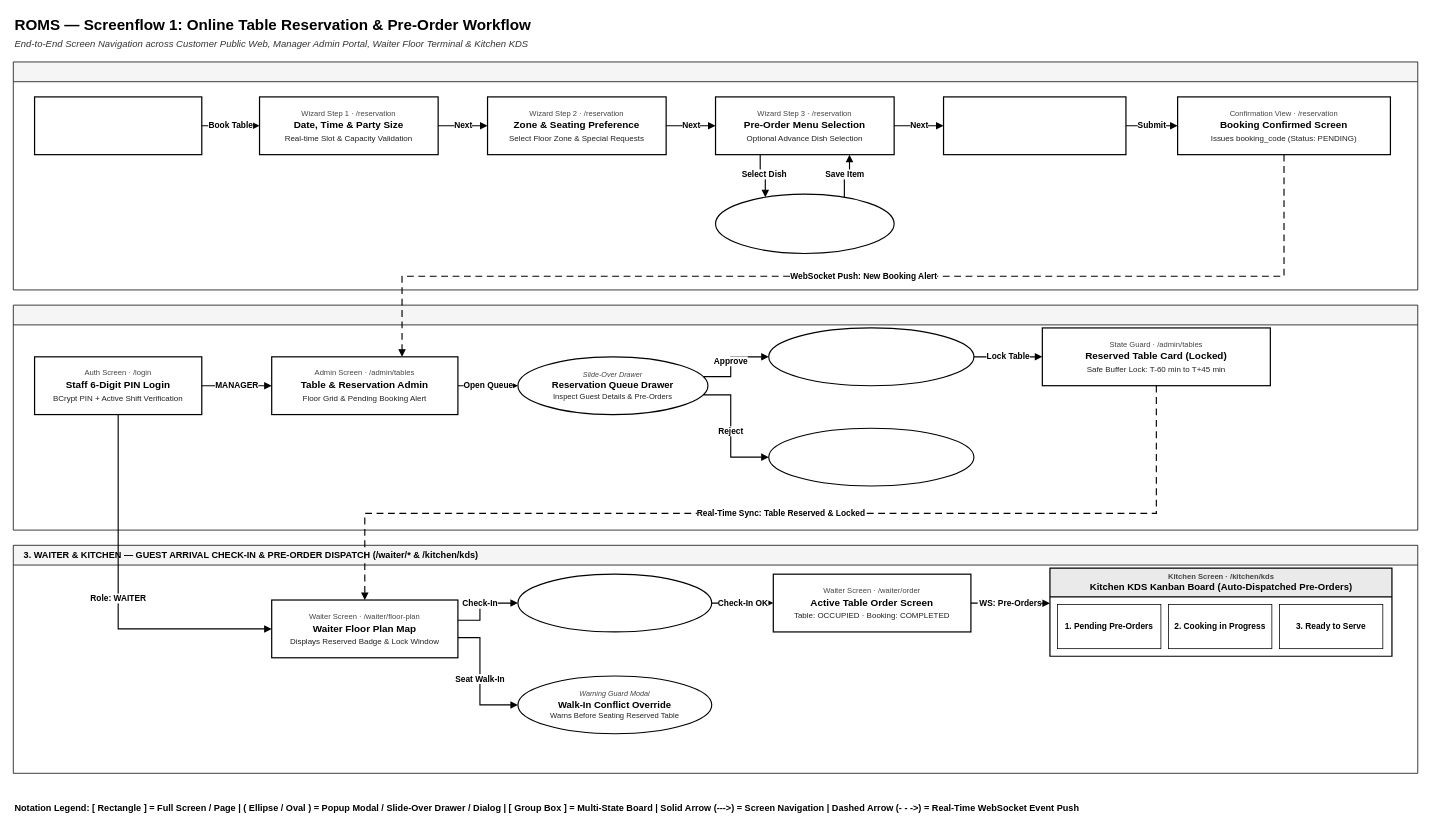
This 1431x830 diagram has some shape labels left out. The box of each missing label's shape, as (x1, y1, x2, y2) in pixels:
1. CUSTOMER — PUBLIC WEB (/ & /reservation): (13, 61, 1418, 290)
2. MANAGER — RESERVATION APPROVAL & TABLE LOCK (/login & /admin/tables): (13, 304, 1418, 530)
Popup Modal Assign Table & Confirm Status: CONFIRMED · Links table_id: (768, 327, 974, 386)
Popup Modal One-Touch Guest Check-In Verifies Arrival · Opens DiningSession: (517, 573, 712, 632)
Popup Modal Pre-Order Dish Customizer Select Qty, Notes & Lock Unit Price: (715, 193, 894, 254)
Popup Modal Reject / Cancel Booking Status: CANCELLED · Saves Reason: (768, 427, 974, 486)
Public Screen · / Landing Page Brand Hero, Live Menu & Book CTA: (34, 96, 202, 155)
Wizard Step 4 · /reservation Guest Contact & Review Name, Phone, Email & Summary: (943, 96, 1126, 155)
